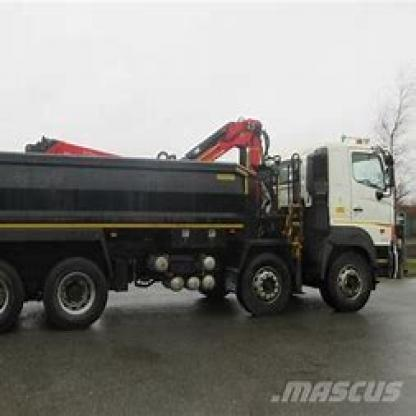dump_truck: (5, 100, 411, 342)
